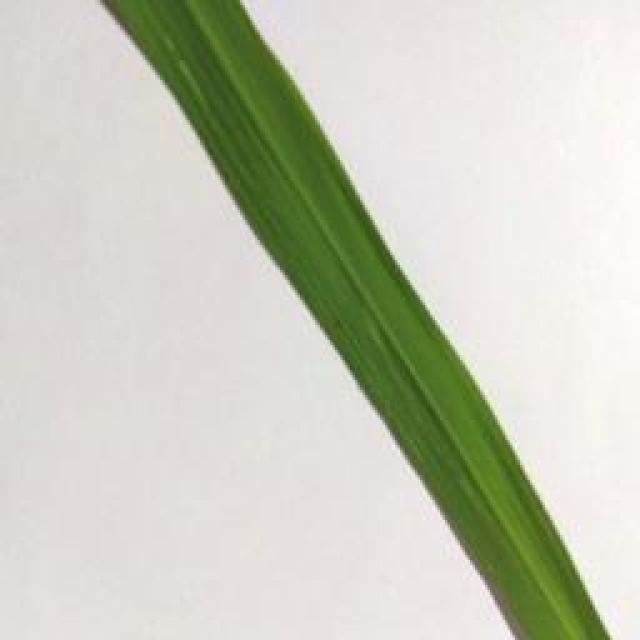Healthy-Plant: (224, 212, 519, 425), (102, 0, 372, 222), (360, 406, 615, 640)
